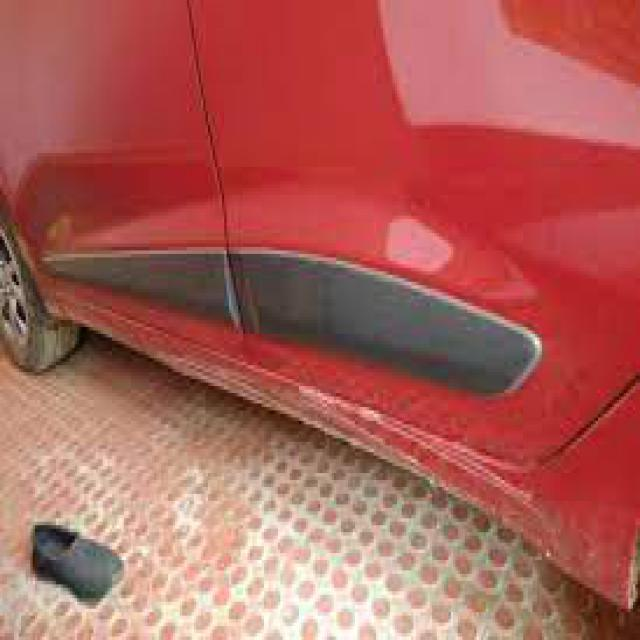RunningBoard-Dent: (259, 386, 534, 532)
doorouter-dent: (0, 0, 238, 365)
